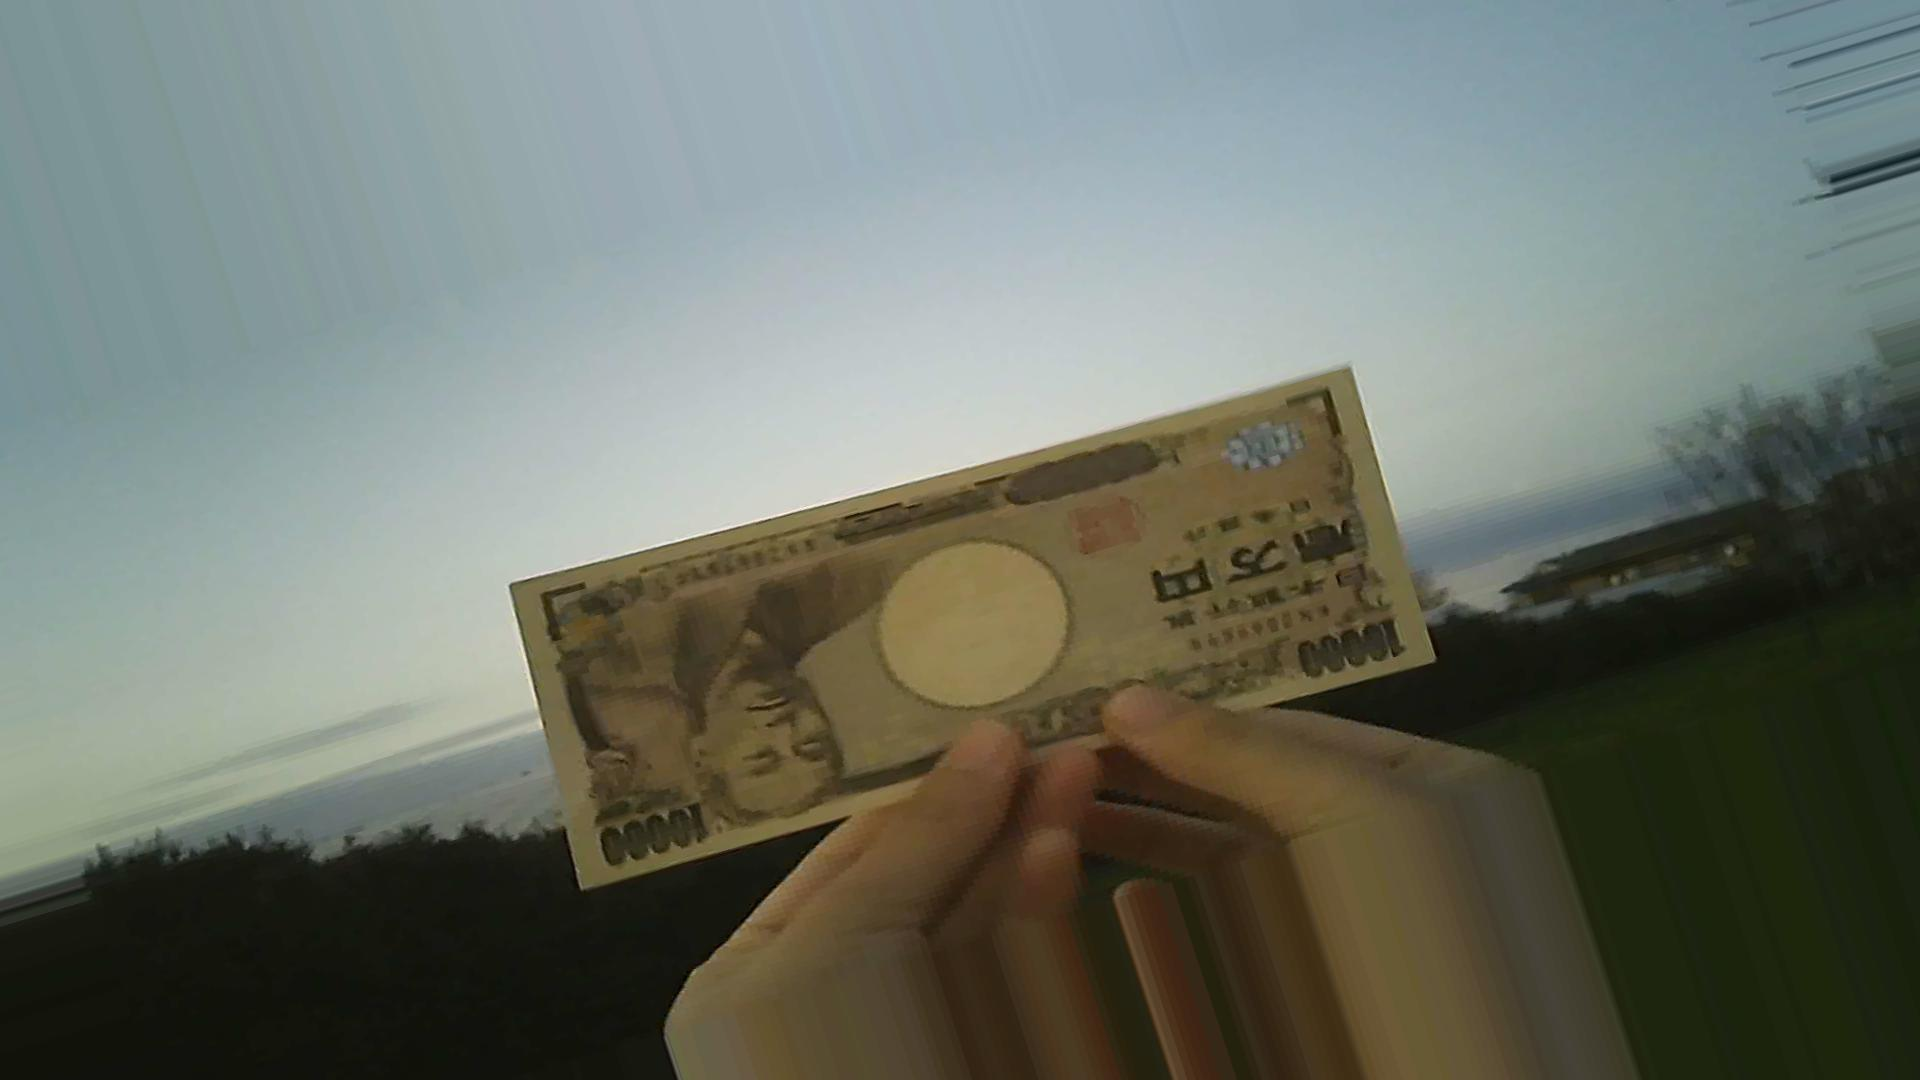10,000 Yen: (487, 396, 1444, 887)
